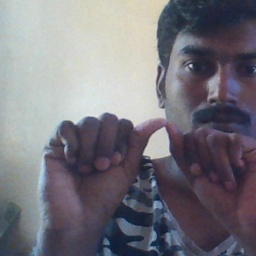A: (66, 105, 249, 224)
